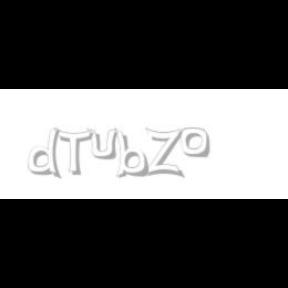T: (53, 128, 93, 176)
Z: (145, 128, 182, 178)
b: (114, 128, 152, 178)
d: (29, 128, 66, 180)
o: (180, 128, 210, 158)
u: (86, 128, 122, 160)
